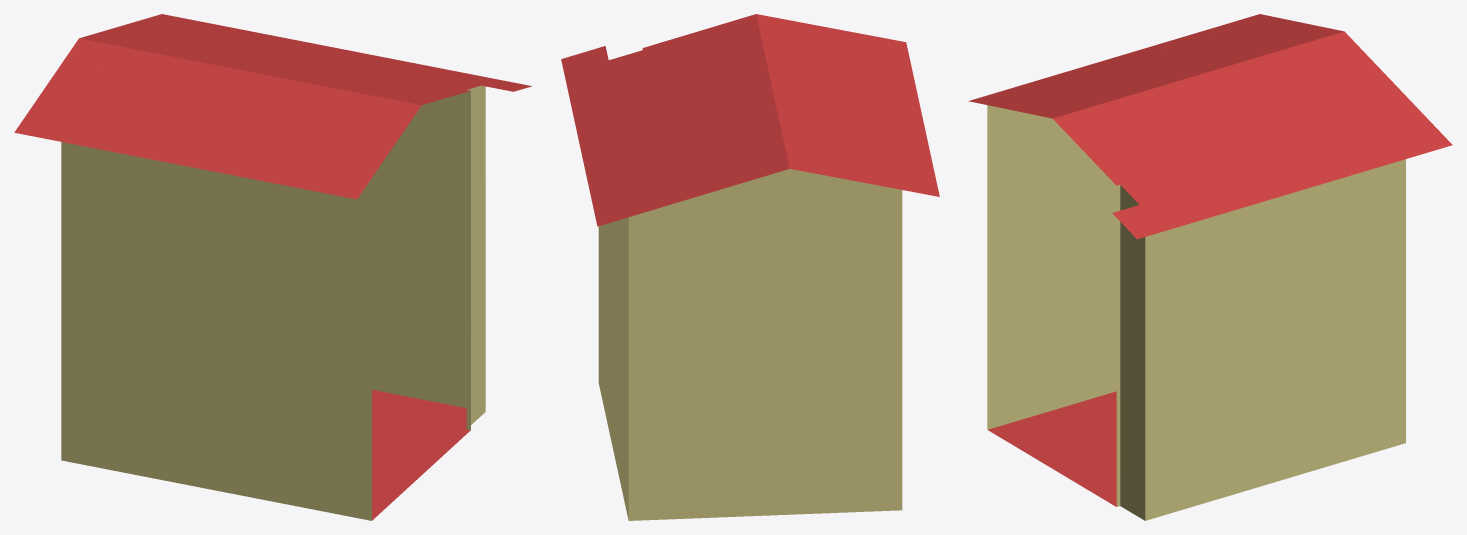
3 views of the same model, side by side, from view 1: azimuth 30°, elevation 25°; view 2: azimuth 150°, elevation 25°; view 3: azimuth 270°, elevation 25° (orthographic). The views are drawn at different scales.
Size of the model in its own units: 11.1 by 10.85 by 8.65.
